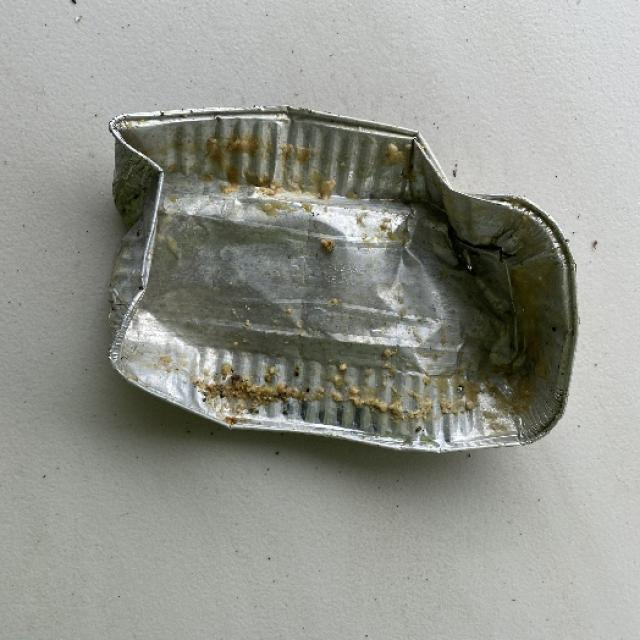inorganic: (106, 103, 581, 461)
